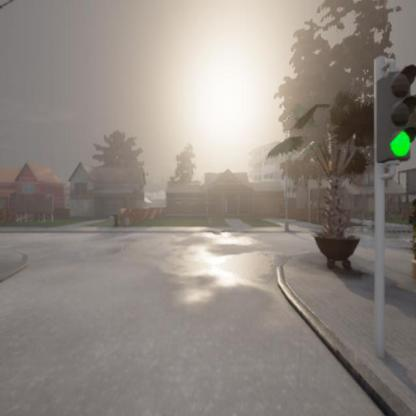traffic_light_green: (378, 61, 415, 164)
